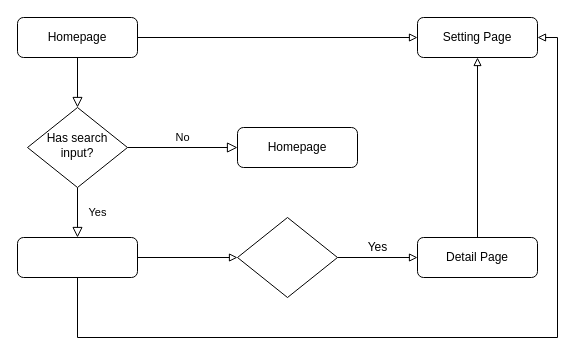
This 583x363 diagram has some shape labels left out. The centre of each missing label's shape, as x and y in pixels:
Search Result Page: the point at 77,257
Select a property?: the point at 287,257
